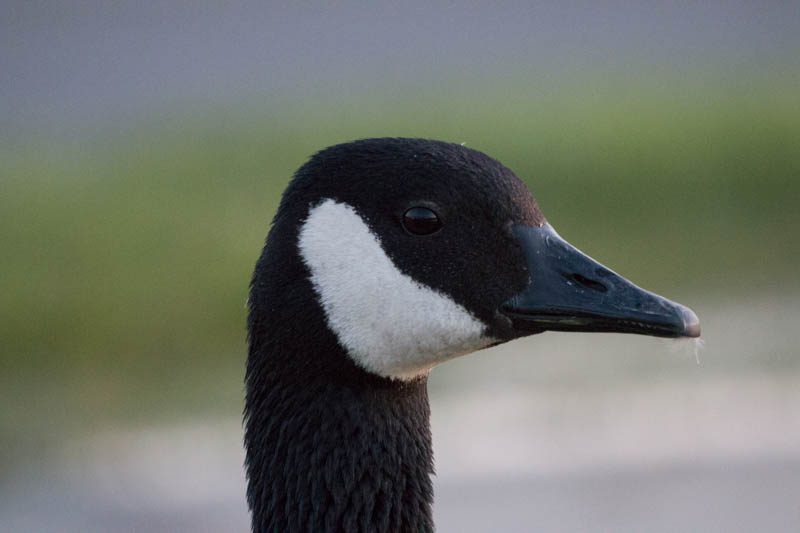goose-head: (248, 137, 702, 383)
